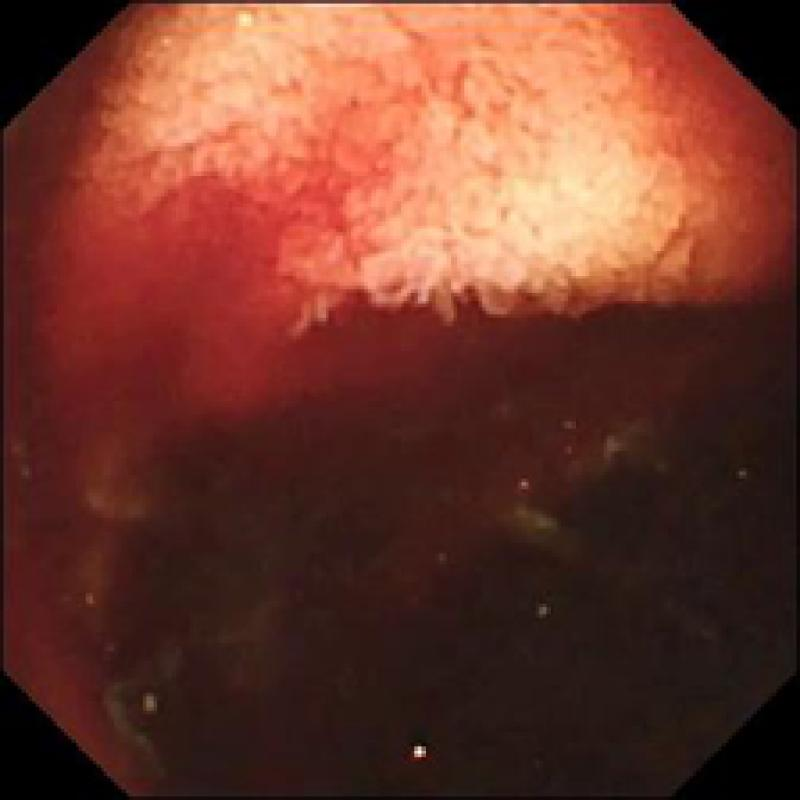bleeding: (7, 135, 471, 800)
